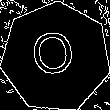O_S: (30, 29, 81, 86)
